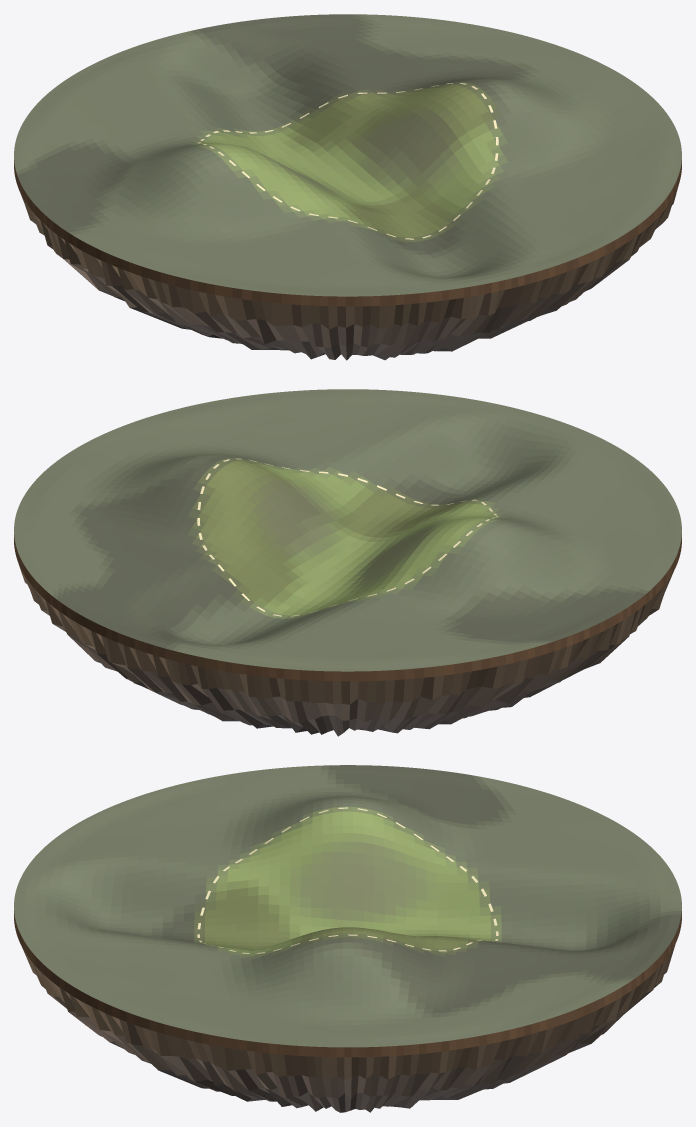
File: valley.glb
3 views of the same model, one above another, from view 1: azimuth 30°, elevation 25°; view 2: azimuth 150°, elevation 25°; view 3: azimuth 270°, elevation 25° (orthographic).
Parts seen in each view (by area): view 1: TER_Surface, TER_Rock, TER_UnlockBorder; view 2: TER_Surface, TER_Rock, TER_UnlockBorder; view 3: TER_Surface, TER_Rock, TER_UnlockBorder.
Boxes of the visible parts, bbox=[...] form: TER_Surface: bbox=[14, 14, 681, 296]; TER_Rock: bbox=[14, 160, 681, 360]; TER_UnlockBorder: bbox=[197, 83, 498, 239]; TER_Surface: bbox=[14, 389, 681, 671]; TER_Rock: bbox=[14, 535, 681, 736]; TER_UnlockBorder: bbox=[197, 458, 498, 616]; TER_Surface: bbox=[14, 765, 681, 1047]; TER_Rock: bbox=[14, 911, 681, 1112]; TER_UnlockBorder: bbox=[197, 807, 498, 953].
Size of the model in its own units: 15.2 by 5.18 by 15.2.
